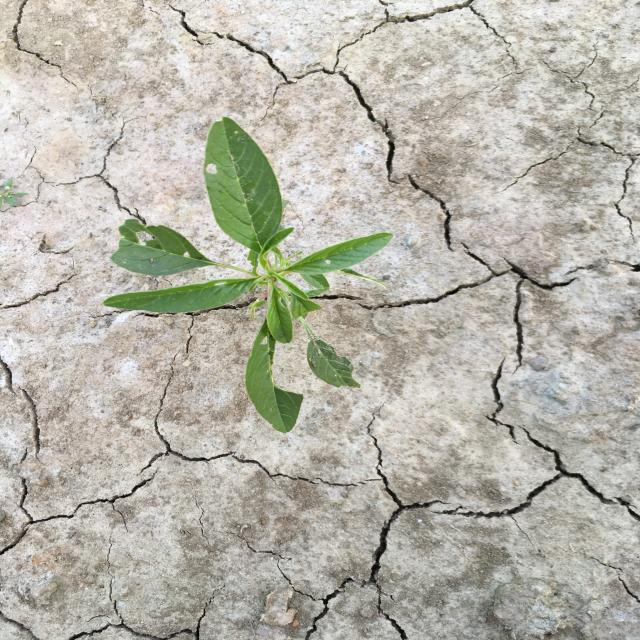Waterhemp: (101, 116, 395, 436)
